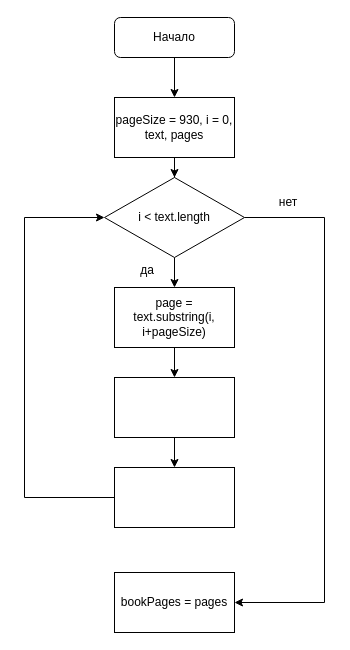
The diagram is 350 pixels wide and 650 high, and some of its shapes have lost their labels. The centre of each missing label's shape, as x and y in pixels:
"i += pageSize" goes at pixel 174 497.
"pages.push(page)" goes at pixel 174 407.
